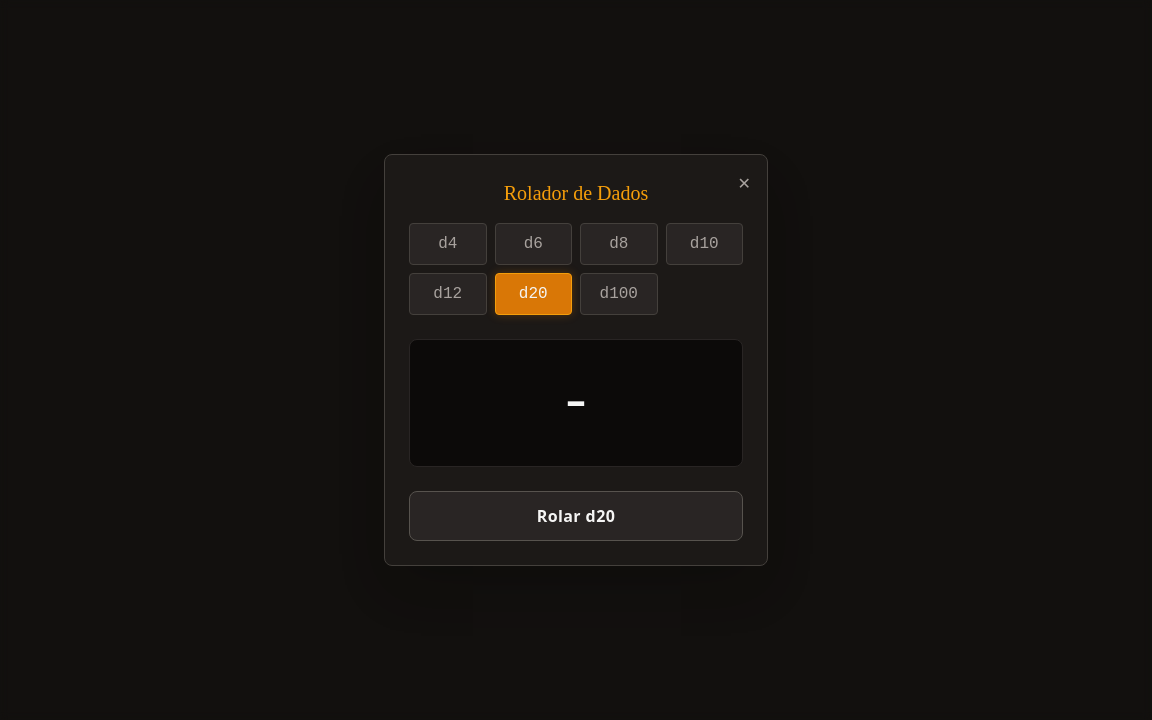
DiceRollerDialog › escolher um dado muda o botão de rolar
The width and height of the screenshot is (1152, 720).
Click the button "d6" at point(533, 244), box [494,223,572,265]
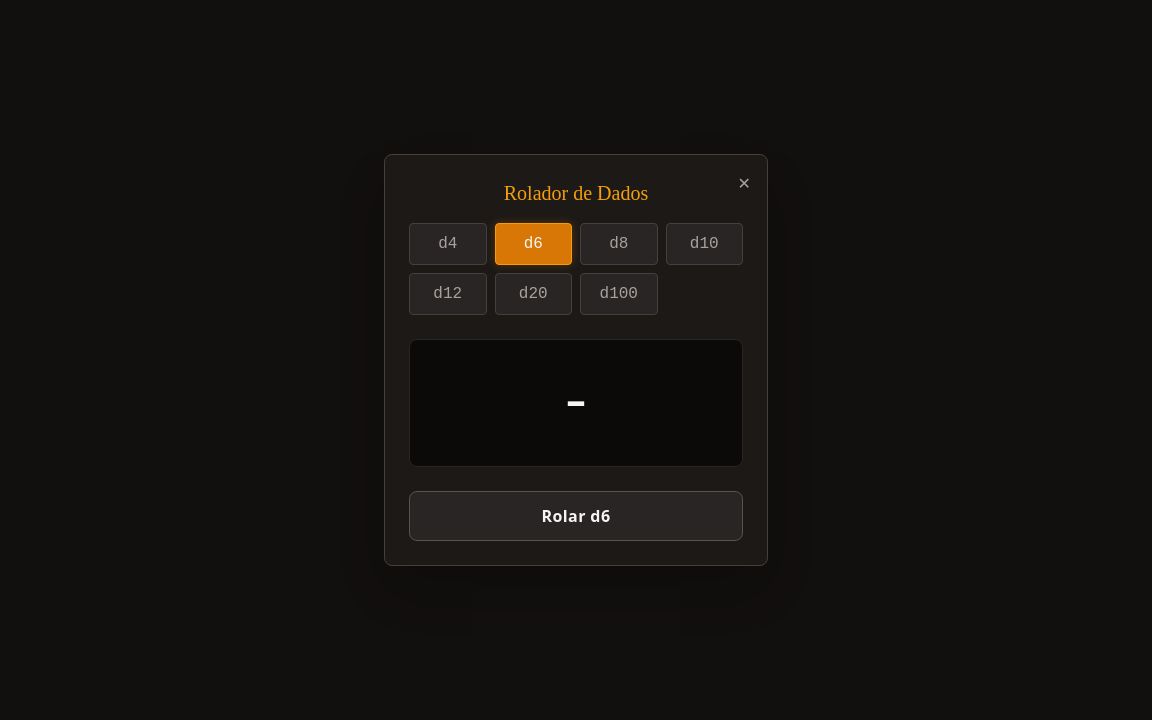
Expected: the button "Rolar d6" is shown, [409,491,743,541]
